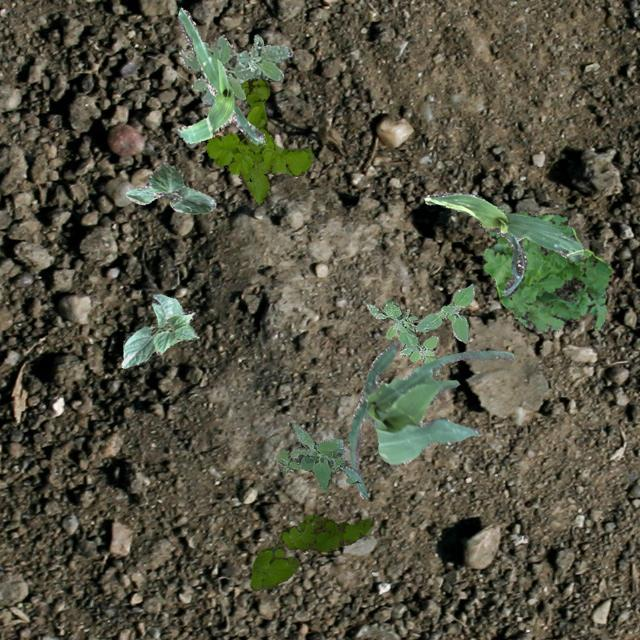crop: (348, 340, 514, 498), (423, 192, 582, 294), (176, 7, 264, 144), (121, 292, 197, 368), (124, 160, 214, 212)
weed: (480, 204, 610, 330), (205, 76, 312, 202), (366, 282, 474, 373), (248, 514, 370, 590), (178, 34, 292, 104), (274, 422, 362, 490)
